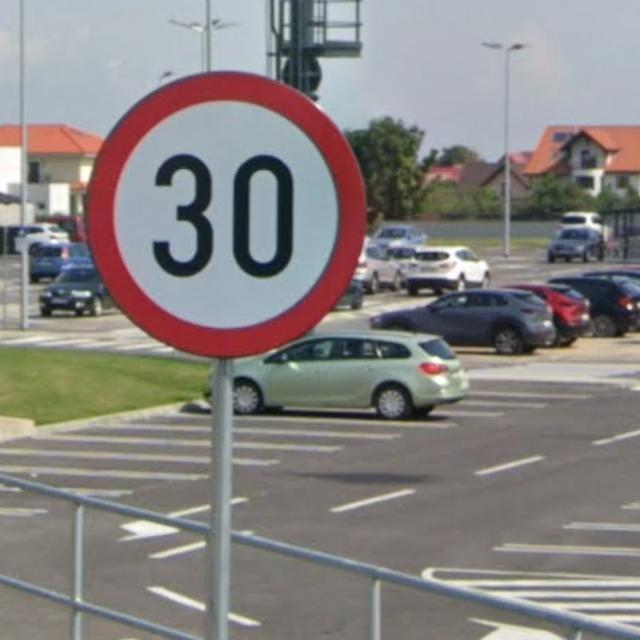forb_speed_over_30: (85, 69, 365, 357)
